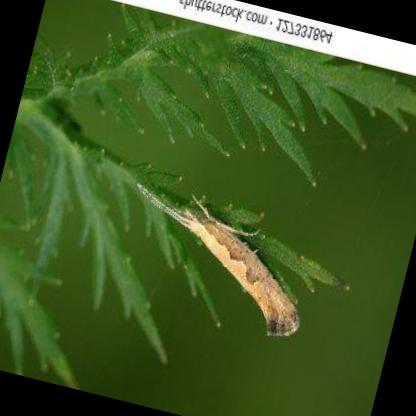plutella: (134, 184, 303, 341)
